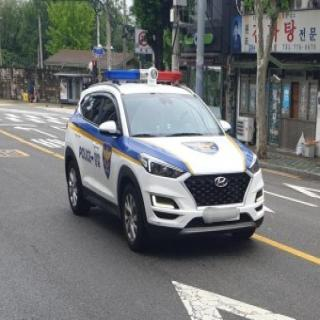Police_car: (62, 68, 266, 255)
